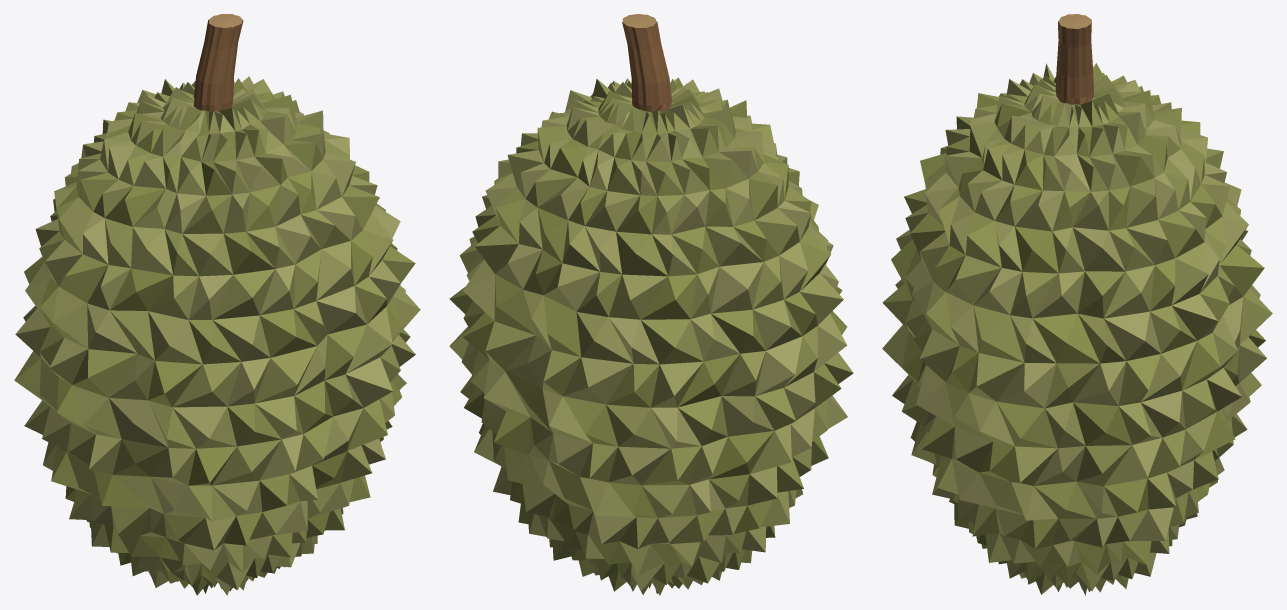
3 views of the same model, side by side, from view 1: azimuth 30°, elevation 25°; view 2: azimuth 150°, elevation 25°; view 3: azimuth 270°, elevation 25° (orthographic).
Parts seen in each view (by area): view 1: NEW303_Durian_LOD2; view 2: NEW303_Durian_LOD2; view 3: NEW303_Durian_LOD2.
Boxes of the visible parts, x1,y1,x2,y2 form: NEW303_Durian_LOD2: (14, 14, 420, 595); NEW303_Durian_LOD2: (449, 14, 853, 595); NEW303_Durian_LOD2: (882, 14, 1272, 595).
Size of the model in its own units: 0.2279 by 0.3461 by 0.2175.
